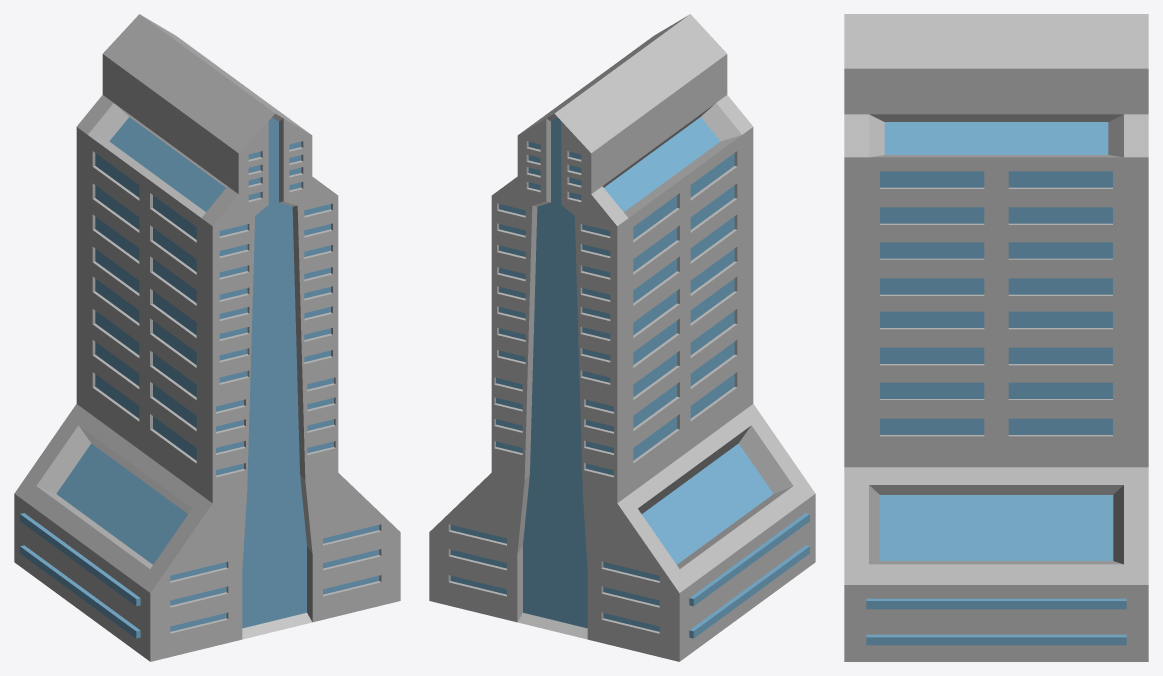
Rendered from necsupertower.fbx.
3 views of the same model, side by side, from view 1: azimuth 30°, elevation 25°; view 2: azimuth 150°, elevation 25°; view 3: azimuth 270°, elevation 25° (orthographic). The views are drawn at different scales.
Visible parts, largest first — view 1: Cube; view 2: Cube; view 3: Cube.
Part boxes in pixels (x1=…): Cube: x1=14, y1=14, x2=400, y2=661; Cube: x1=429, y1=14, x2=815, y2=661; Cube: x1=844, y1=14, x2=1148, y2=661.
Size of the model in its own units: 7456 by 14242 by 6783.
